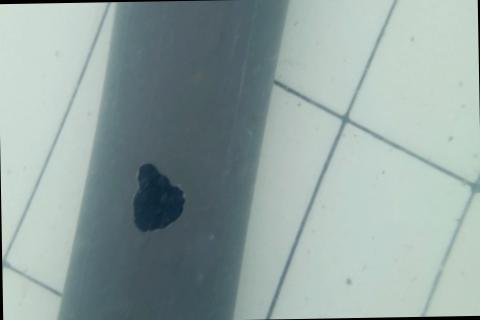kebocoran: (130, 160, 187, 234)
